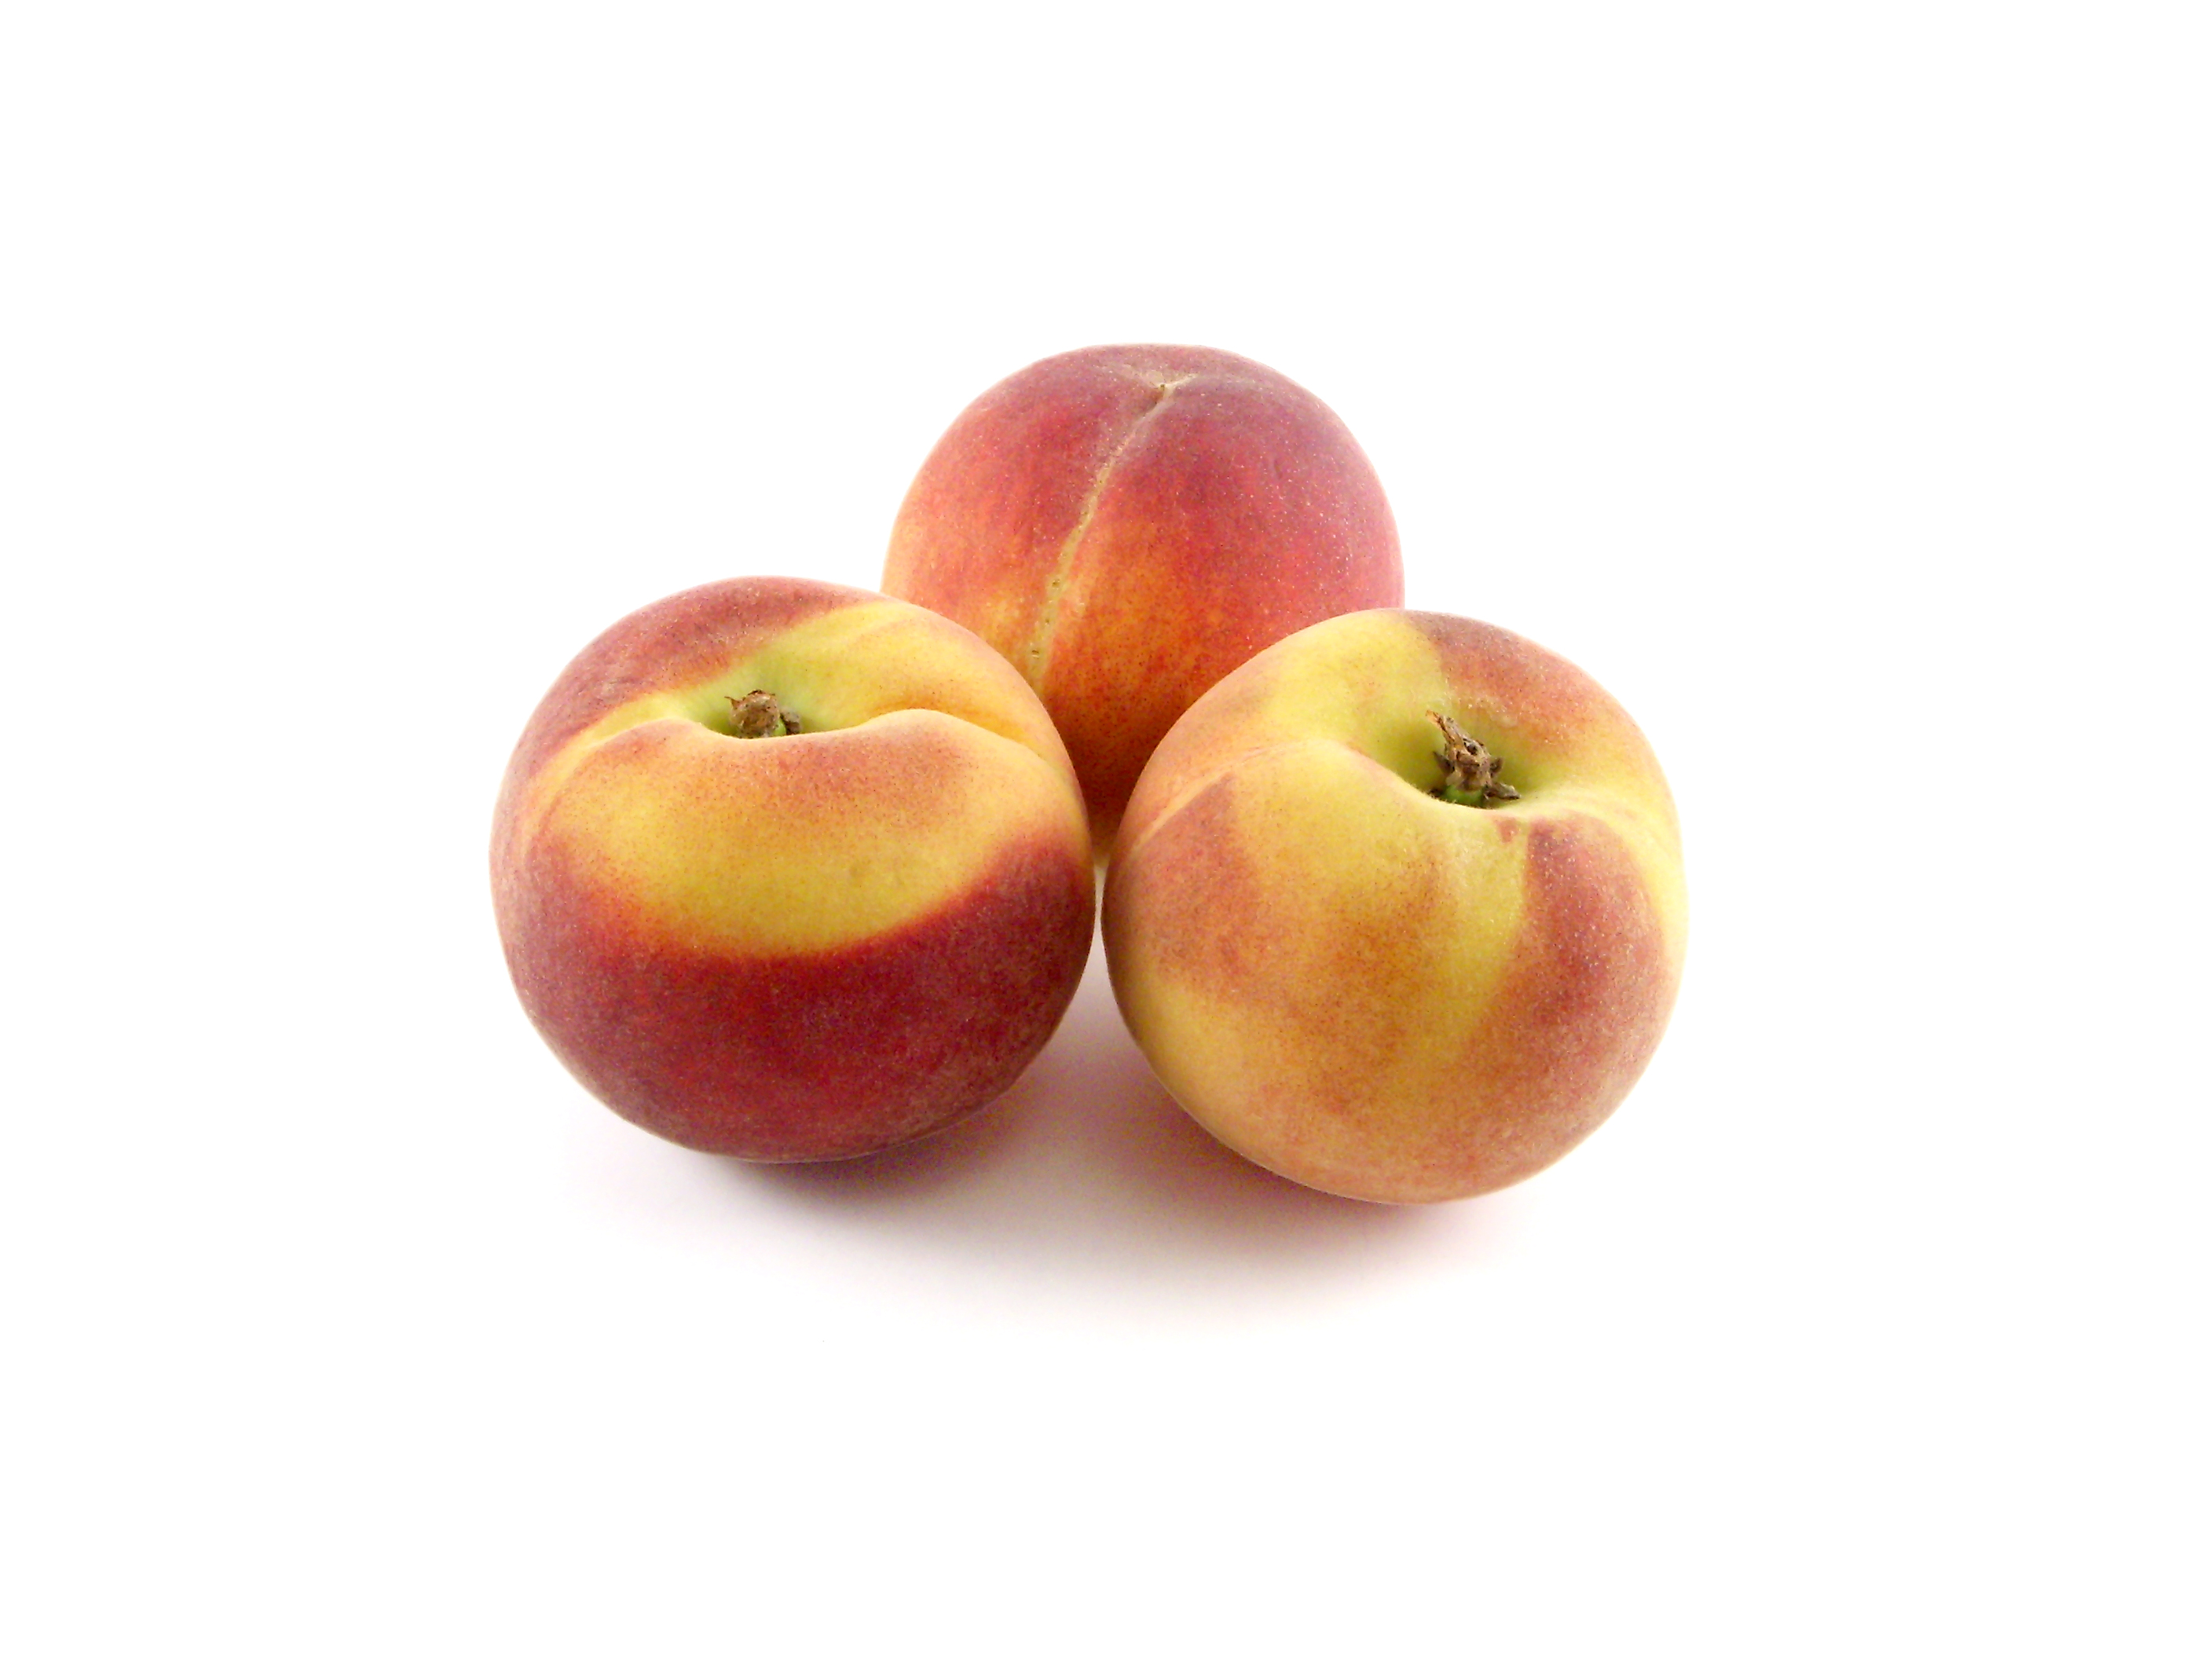peach: (505, 580, 1071, 1204), (1134, 615, 1674, 1215), (867, 326, 1435, 676)
